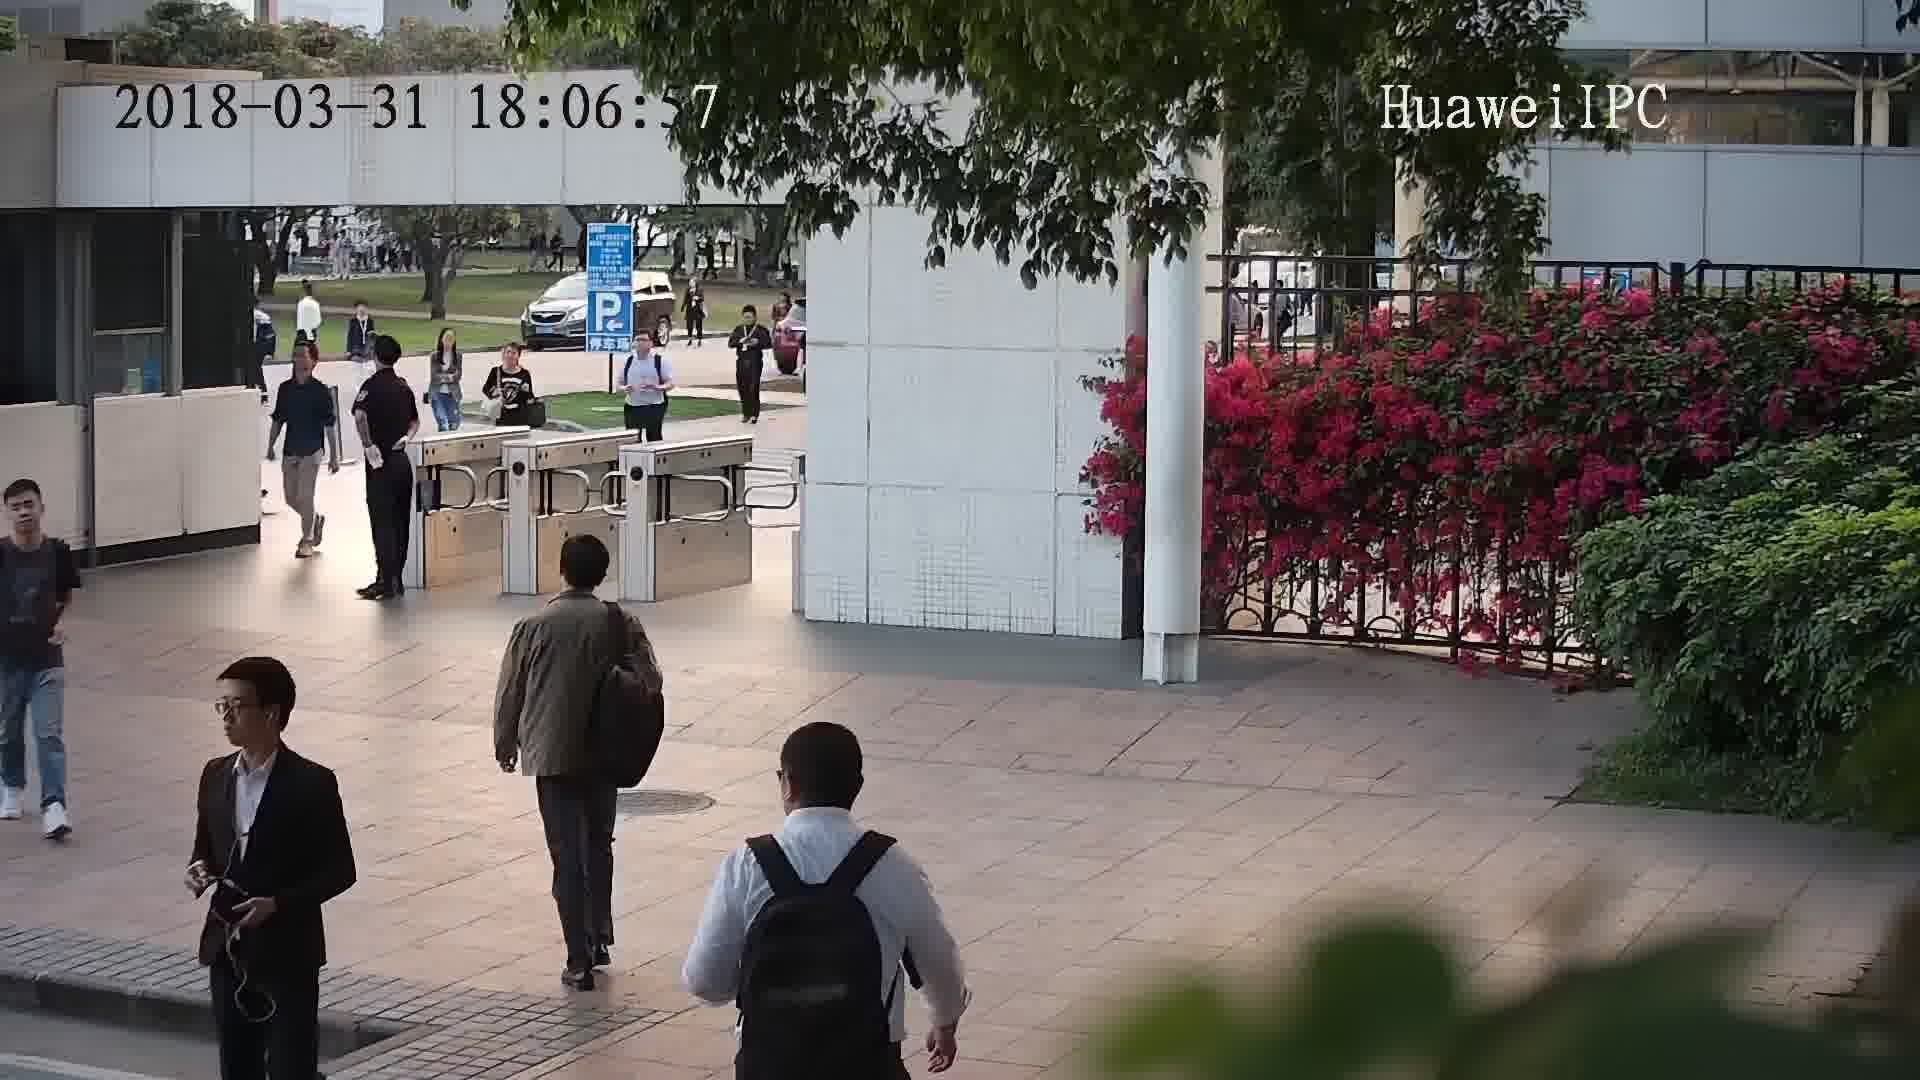face: (205, 674, 279, 748), (3, 485, 53, 540)
person: (722, 718, 923, 899), (197, 653, 342, 807), (509, 527, 644, 649), (1, 475, 73, 576), (357, 334, 412, 400), (275, 340, 331, 399), (488, 338, 536, 383), (625, 328, 672, 368), (426, 324, 463, 367), (737, 301, 772, 334), (346, 296, 375, 333), (293, 281, 320, 315), (680, 274, 708, 297)
